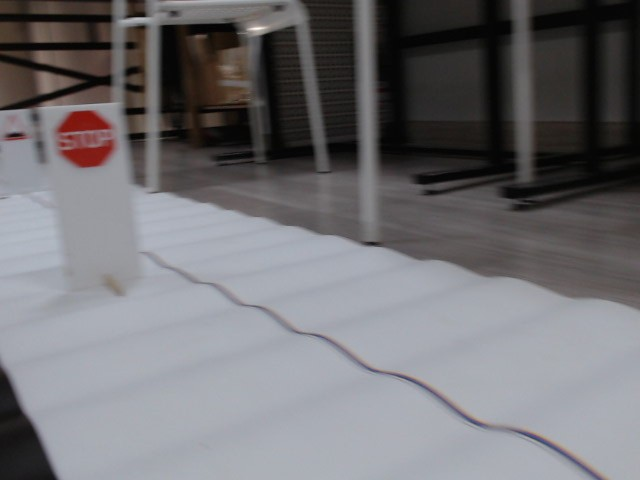Stop: (54, 111, 118, 168)
